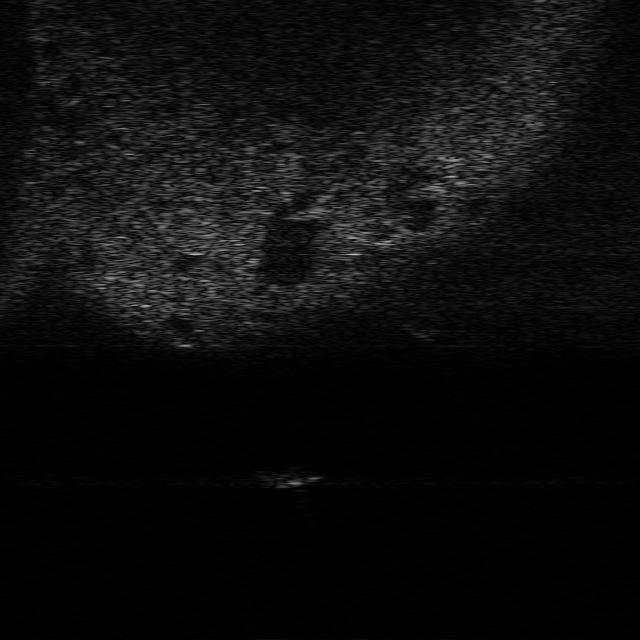ball: (399, 312, 439, 338)
cube: (255, 468, 323, 490)
